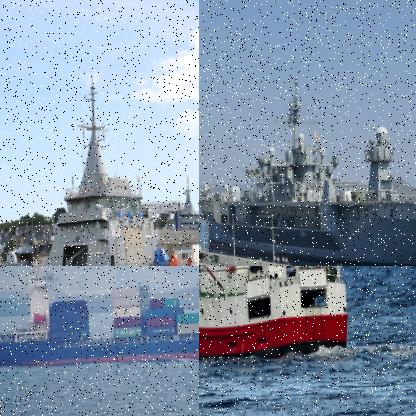Fishing Boat: (199, 266, 415, 365)
Merchant Ship: (0, 266, 198, 369)
Military Ship: (199, 71, 415, 265), (0, 66, 198, 265)
